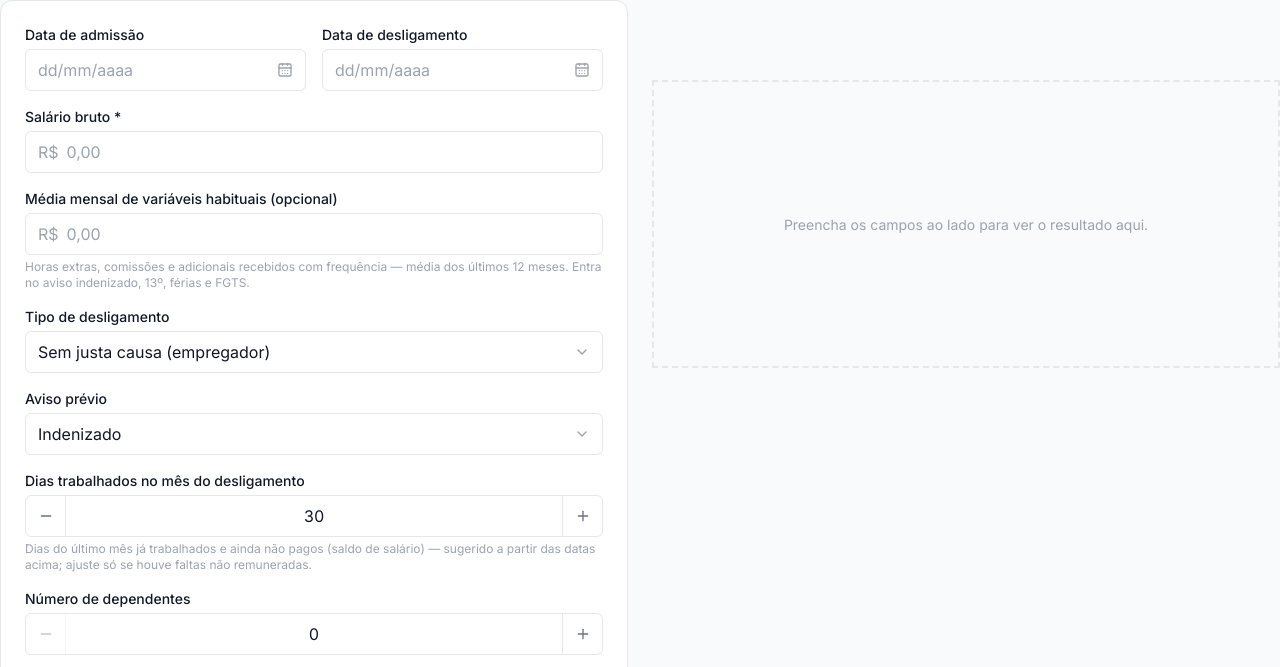
Scenario: TerminationCalculator › desligamento antes das regras disponíveis mostra erro em vez de quebrar
The width and height of the screenshot is (1280, 667).
Type "01/03/2024" into the field labelled "Data de admissão" at (148, 70), box [26, 50, 269, 90]
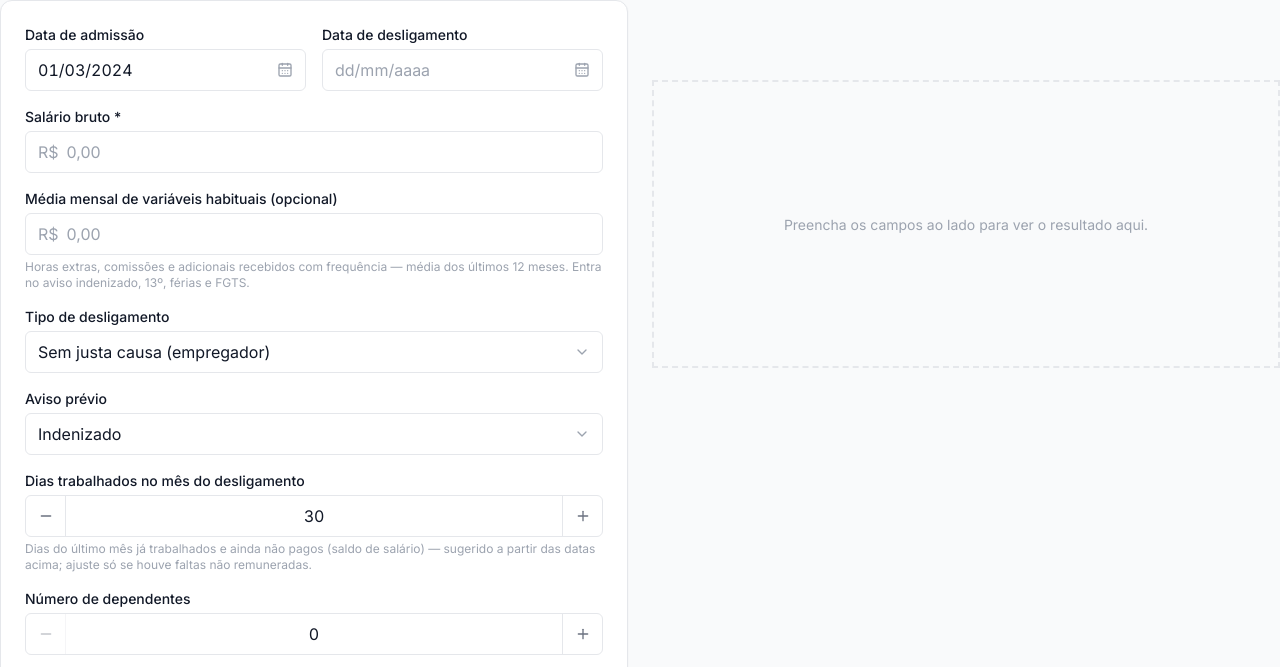
Type "20/12/2025" into the field labelled "Data de desligamento" at (444, 70), box [323, 50, 566, 90]
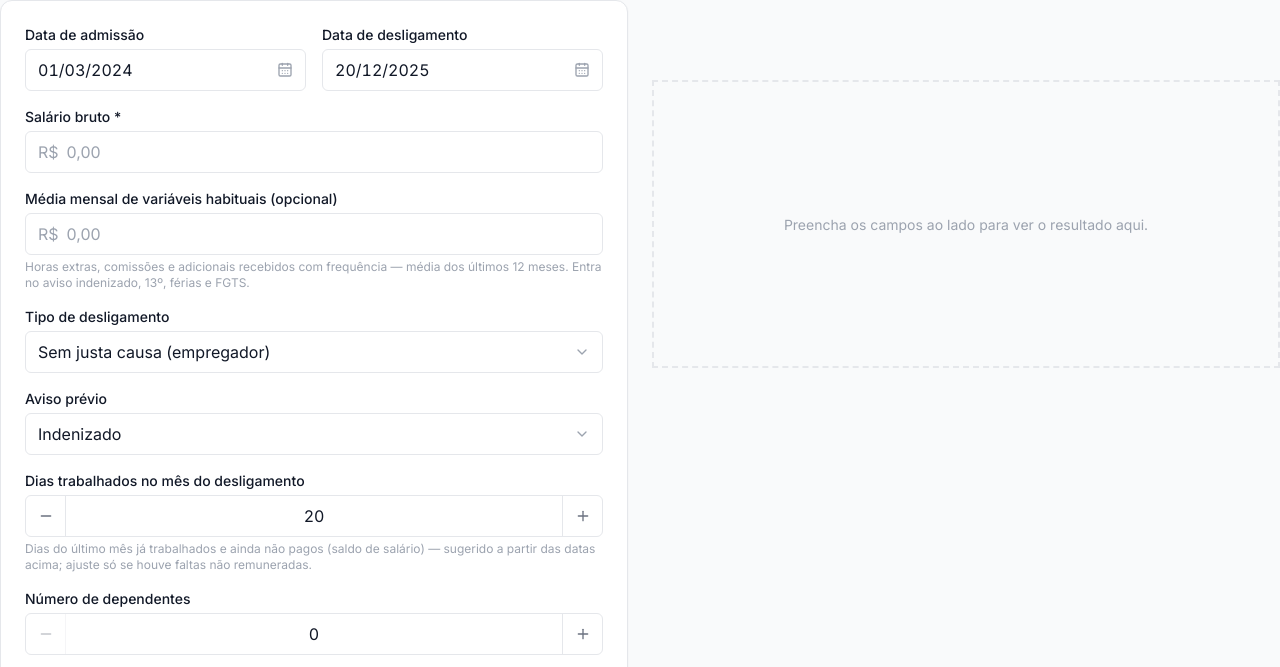
Type "300000" into the field labelled "Salário bruto *" at (324, 152), box [59, 132, 590, 172]
(page scrolled)
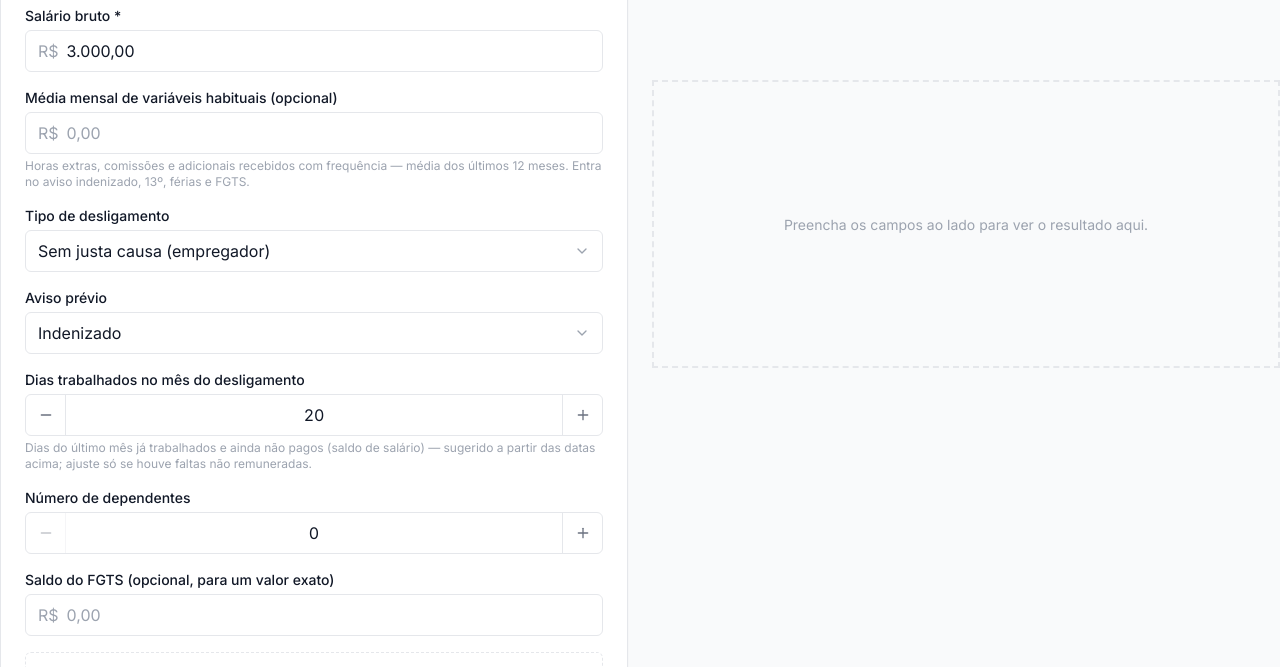
Submit the form named "Calcular"
(page scrolled)
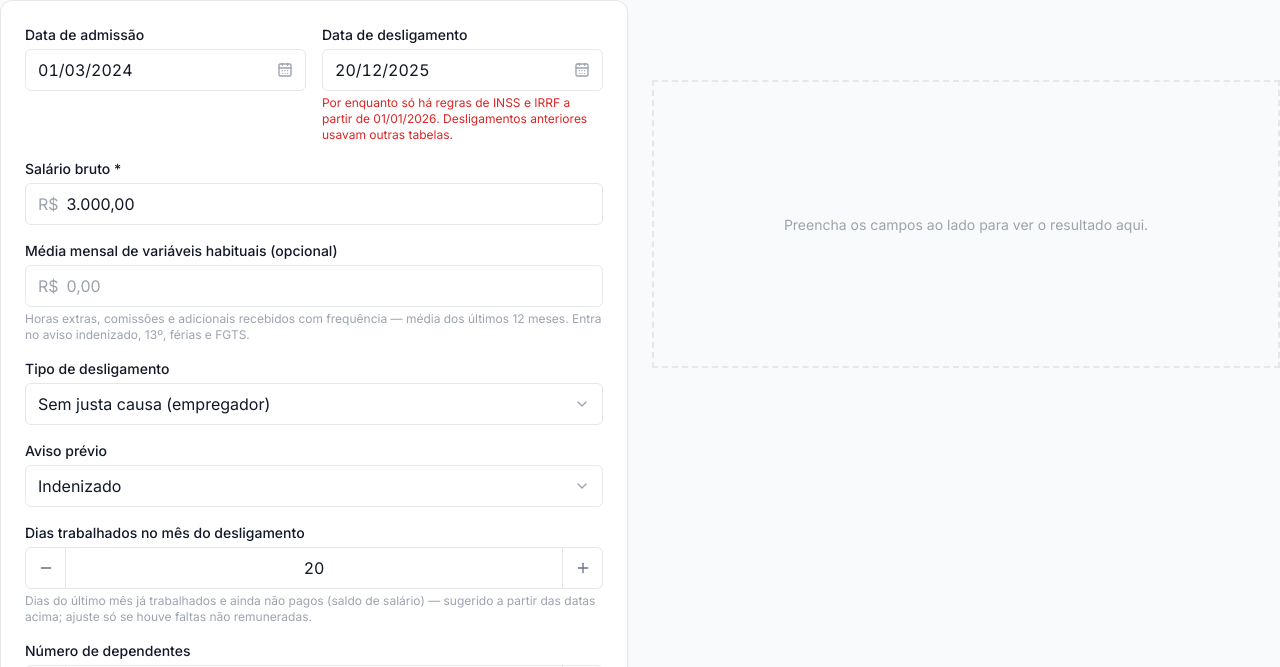
expect the text "só há regras de INSS e IRRF" is shown: met, box [322, 95, 587, 142]
